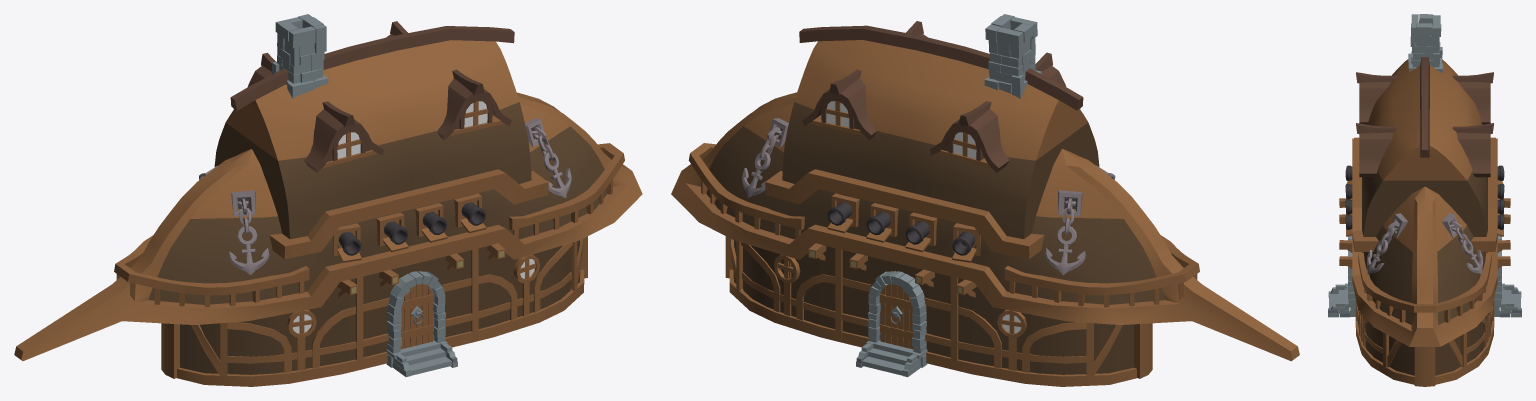
Rendered from house-3.glb.
3 views of the same model, side by side, from view 1: azimuth 30°, elevation 25°; view 2: azimuth 150°, elevation 25°; view 3: azimuth 270°, elevation 25° (orthographic). The views are drawn at different scales.
Parts seen in each view (by area): view 1: Environment_House1; view 2: Environment_House1; view 3: Environment_House1.
Part boxes in pixels (bbox=[...]): Environment_House1: bbox=[14, 14, 642, 386]; Environment_House1: bbox=[671, 14, 1299, 386]; Environment_House1: bbox=[1328, 14, 1521, 386].
Bounding box in the file's own units: 13.54 × 6.77 × 4.59.
2 materials, 1 textured.
